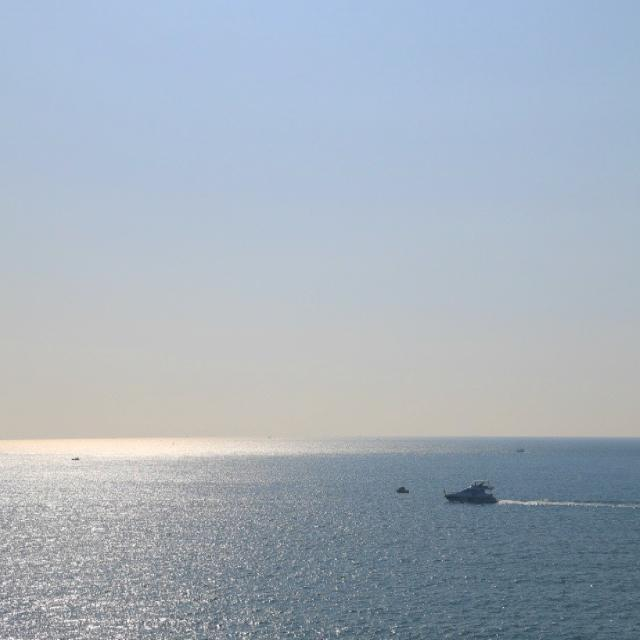houseboat: (441, 471, 499, 511)
